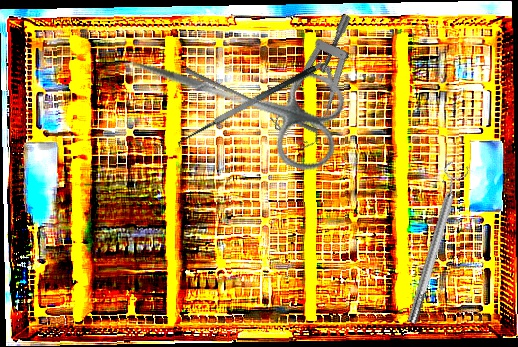Fixation Ring: (398, 159, 472, 327)
Iris Scissors: (112, 20, 354, 177)
Pusher: (182, 67, 321, 134)
Spatula Surgical: (173, 64, 324, 155)
Speculum: (250, 12, 397, 156)
